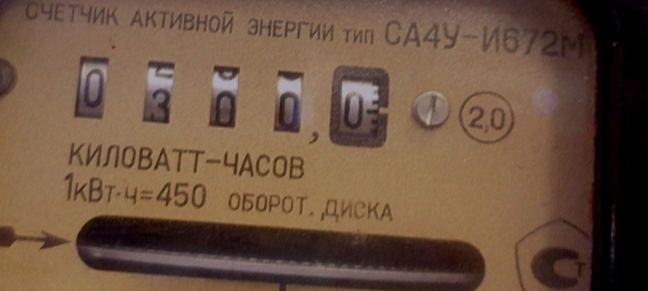0: (275, 89, 303, 134), (81, 64, 107, 112), (340, 89, 367, 133), (212, 88, 237, 130)
3: (147, 85, 172, 125)
screen: (53, 32, 412, 166)
